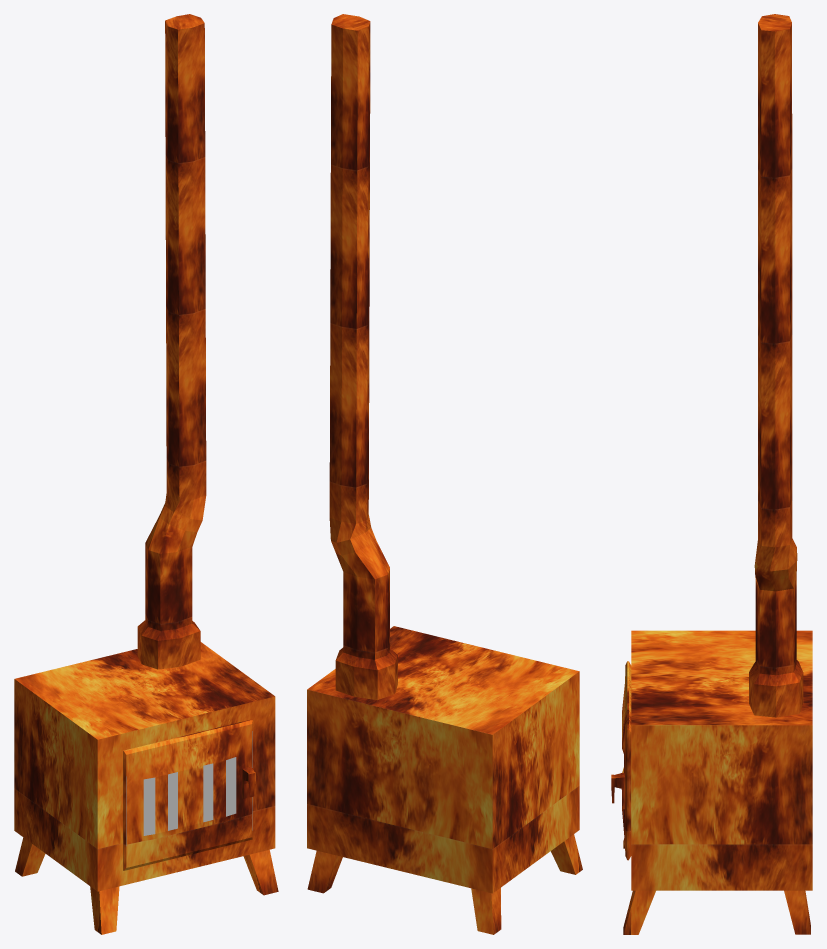
Rendered from woodstove.fbx.
3 views of the same model, side by side, from view 1: azimuth 30°, elevation 25°; view 2: azimuth 150°, elevation 25°; view 3: azimuth 270°, elevation 25° (orthographic). The views are drawn at different scales.
Visible parts, largest first — view 1: Cube; view 2: Cube; view 3: Cube.
Boxes of the visible parts, x1,y1,x2,y2 form: Cube: (14,14,278,934); Cube: (307,14,582,934); Cube: (611,14,812,934).
Bounding box in the file's own units: 2.01 × 8.87 × 1.8.
